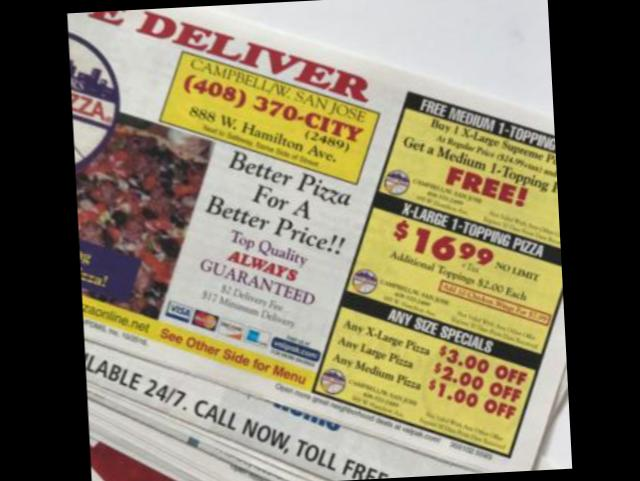cardboard paper: (67, 6, 567, 481)
